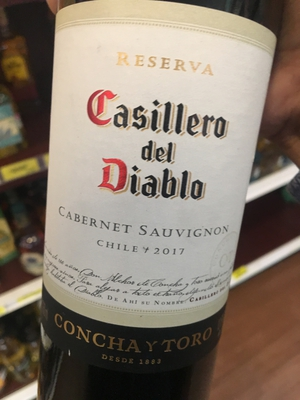casillero del diablo cabernet sauvignon: (34, 7, 284, 398)
